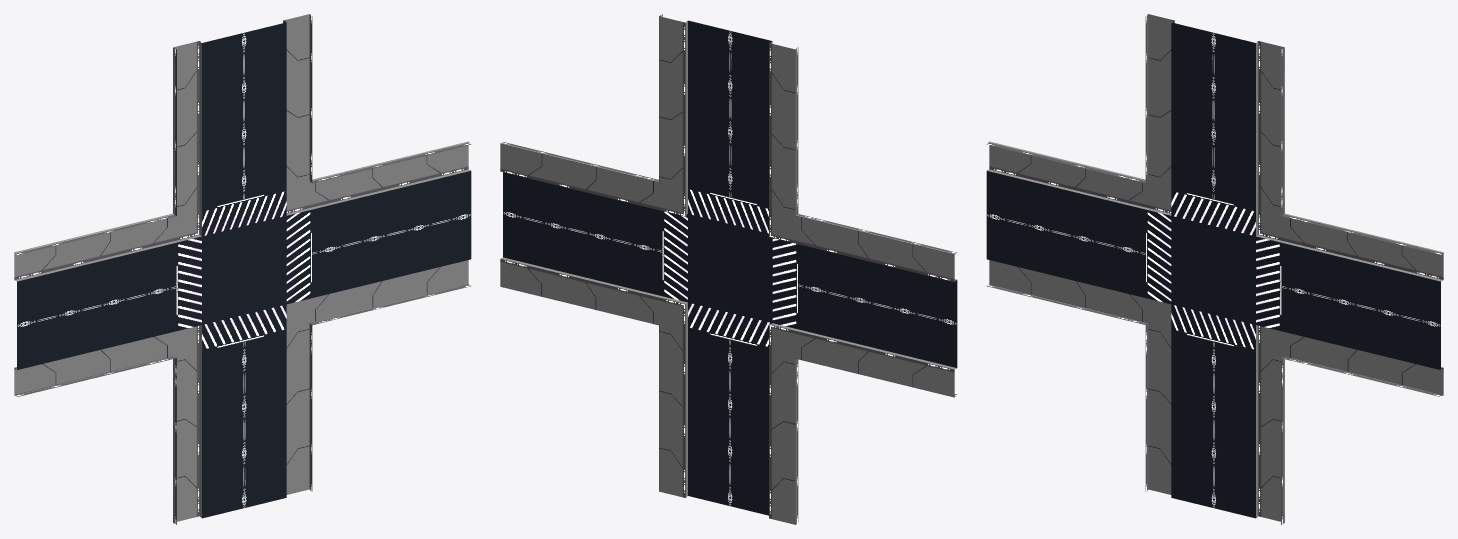
File: SM_S_Xroad.fbx
3 renders of one model, left to right at view 1: azimuth 30°, elevation 25°; view 2: azimuth 150°, elevation 25°; view 3: azimuth 330°, elevation 25°, orthographic.
Visible parts, largest first — view 1: SM_S_Xroad; view 2: SM_S_Xroad; view 3: SM_S_Xroad.
Part boxes in pixels (<box>): SM_S_Xroad: <box>14,14,471,524</box>; SM_S_Xroad: <box>500,14,957,524</box>; SM_S_Xroad: <box>986,14,1443,524</box>.
Bounding box in the file's own units: 9811 × 9811 × 119.
